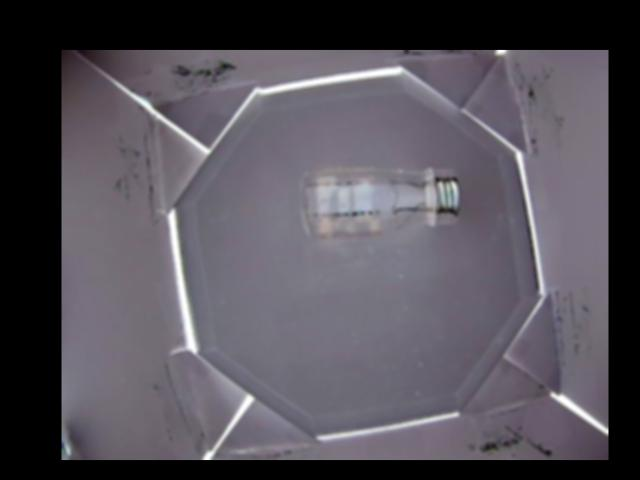Bottle: (297, 167, 461, 241)
